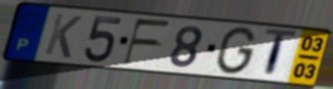5: (81, 13, 125, 63)
8: (169, 24, 204, 69)
F: (121, 18, 174, 67)
G: (213, 25, 259, 77)
K: (42, 12, 85, 61)
T: (262, 27, 300, 81)
